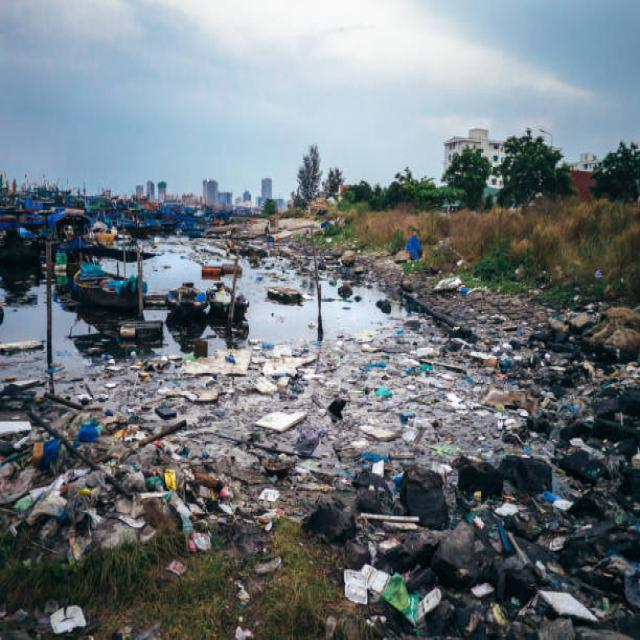trash: (51, 358, 604, 582)
